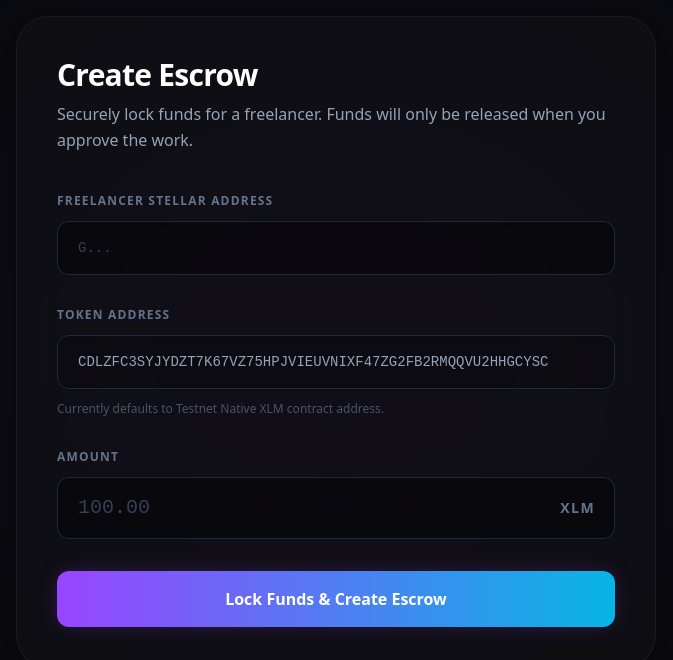
Test: CreateEscrow › shows error for zero or negative amount
The width and height of the screenshot is (673, 660).
Type "GA7QYNF7SOWQ3GLR2B6RS22RCZB4Z2Z4YI2VMB7T4P2B6Y64K6T34K3Q" into the field with placeholder "G..." at [336, 248], box [57,221,615,275]
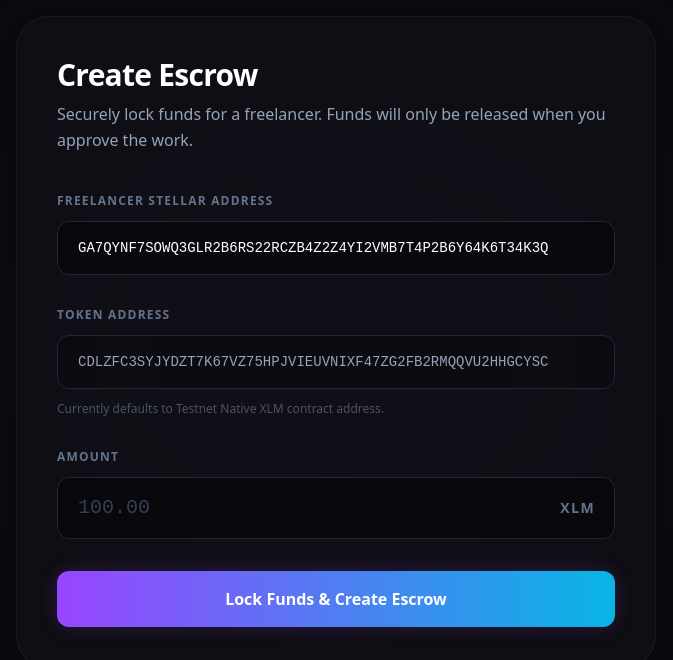
Type "0" into the number field with placeholder "100.00" at [336, 508], box [57,477,615,539]
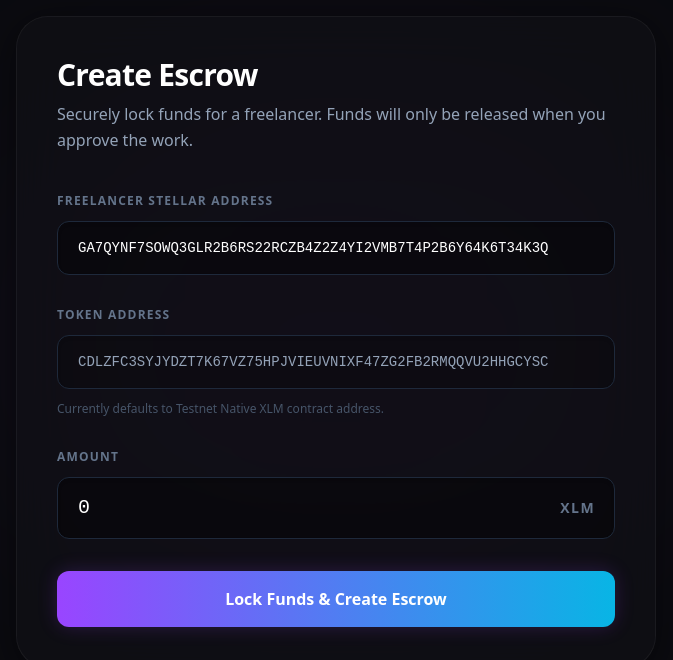
Submit the form named "Lock Funds & Create Escrow", box [57,193,615,627]
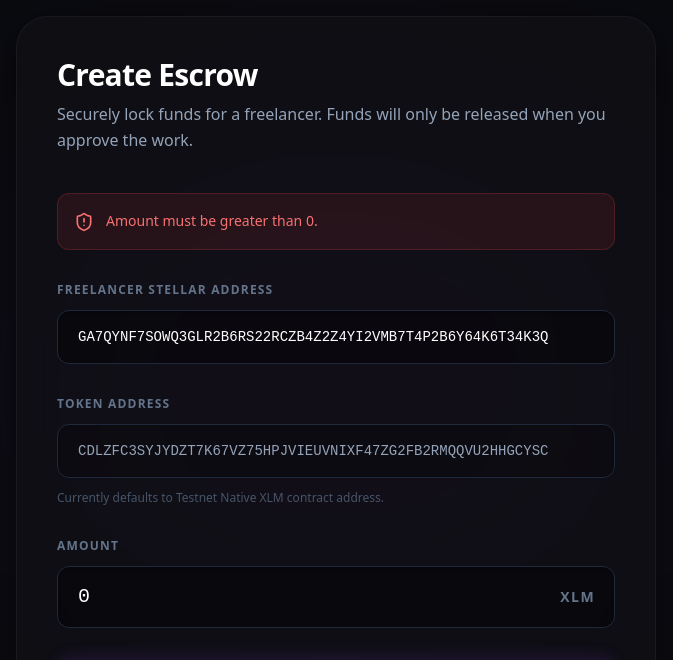
Result: the text "Amount must be greater than 0." is shown at [106,210,318,233]
